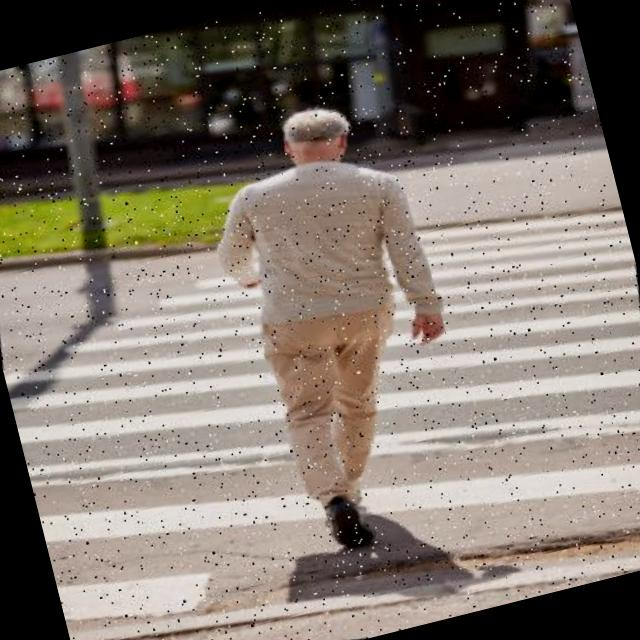Person: (153, 71, 524, 588)
